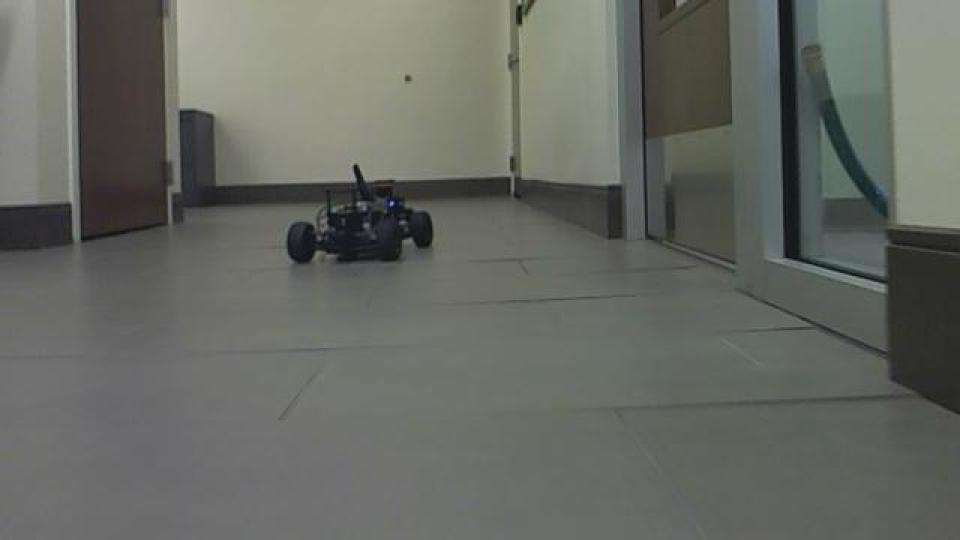car: (282, 161, 436, 267)
